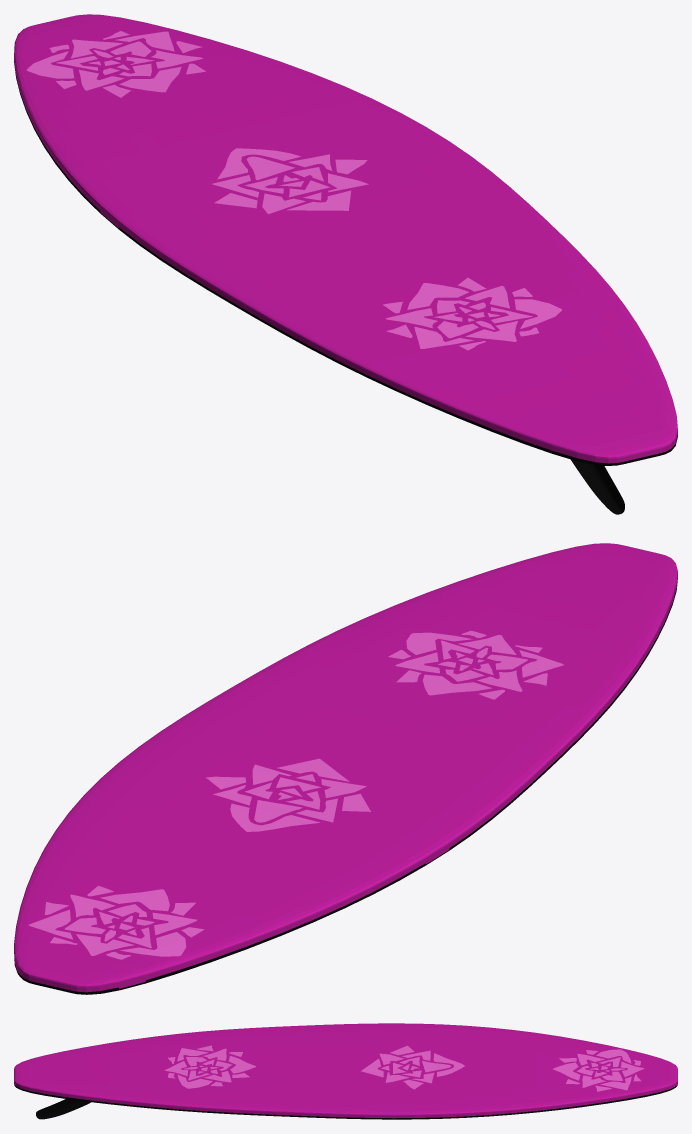
Rendered from RosyRider.fbx.
3 renders of one model, top to bottom at view 1: azimuth 30°, elevation 25°; view 2: azimuth 150°, elevation 25°; view 3: azimuth 270°, elevation 25°, orthographic. The views are drawn at different scales.
Visible parts, largest first — view 1: RosyRider; view 2: RosyRider; view 3: RosyRider.
Boxes of the visible parts, x1,y1,x2,y2 form: RosyRider: (14, 14, 677, 514); RosyRider: (14, 543, 677, 994); RosyRider: (14, 1023, 677, 1119).
Size of the model in its own units: 52.82 by 13.93 by 162.
